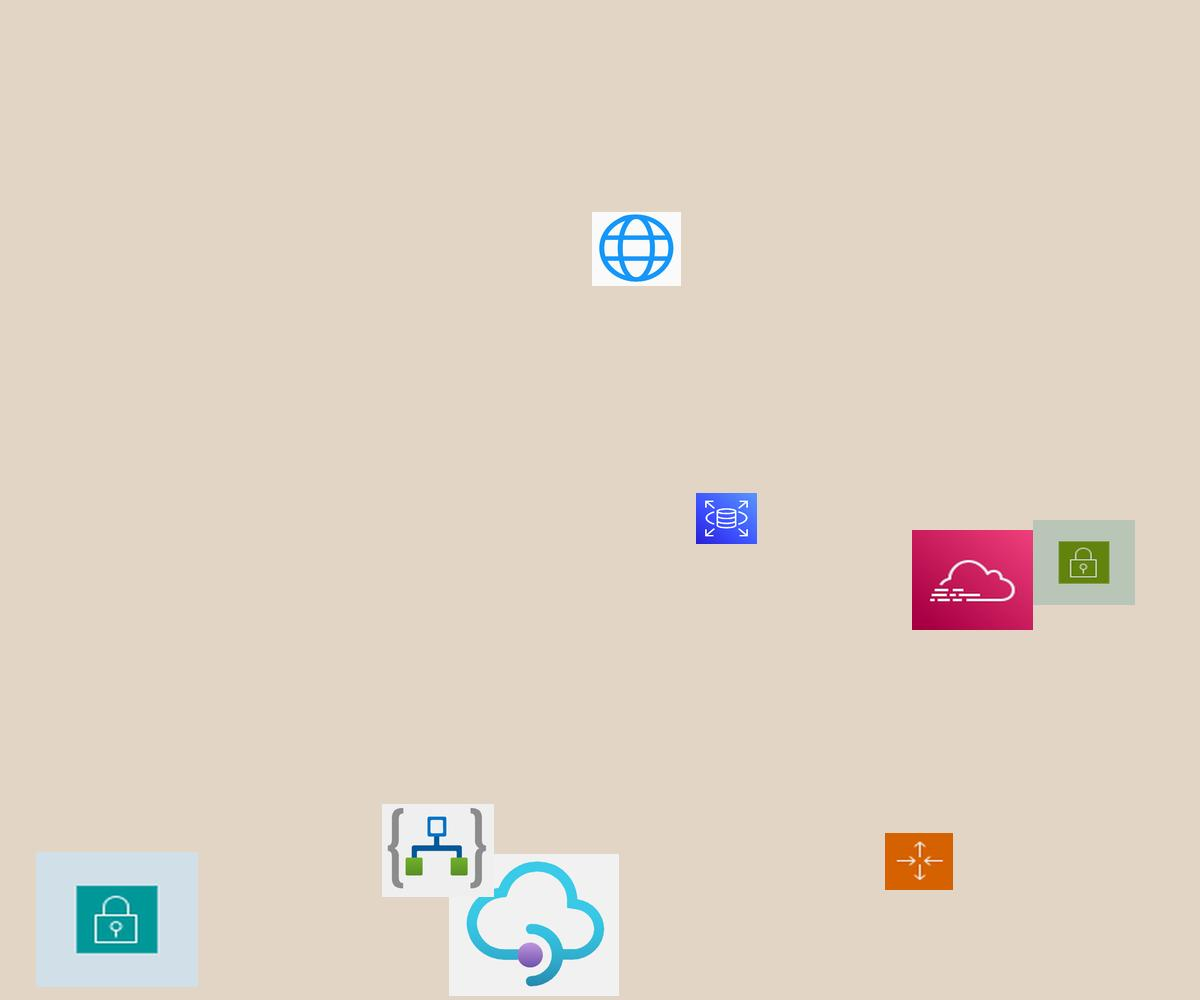AWS-CloudTrail: (912, 530, 1033, 630)
AWS-Private-subnet: (36, 852, 198, 987)
AWS-Public-subnet: (1033, 520, 1135, 605)
AWS-RDS: (696, 493, 757, 544)
AWS-Scaling-group: (885, 833, 953, 890)
Azure_api_gateway: (449, 854, 619, 996)
Azure_http: (592, 212, 681, 286)
Azure_integration-204-Logic-Apps: (382, 804, 494, 897)
